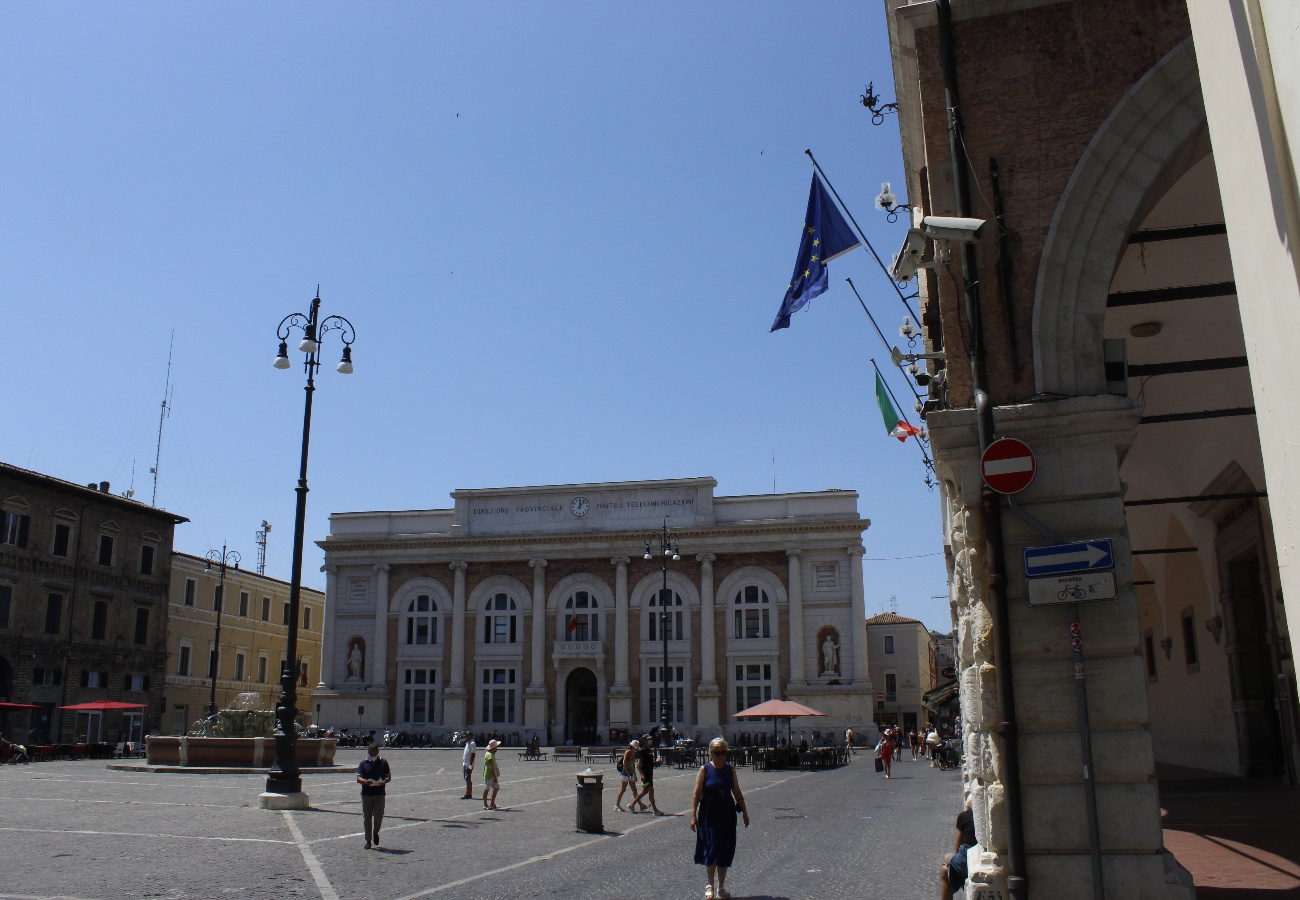Palazzo delle Poste: (324, 488, 874, 752)
